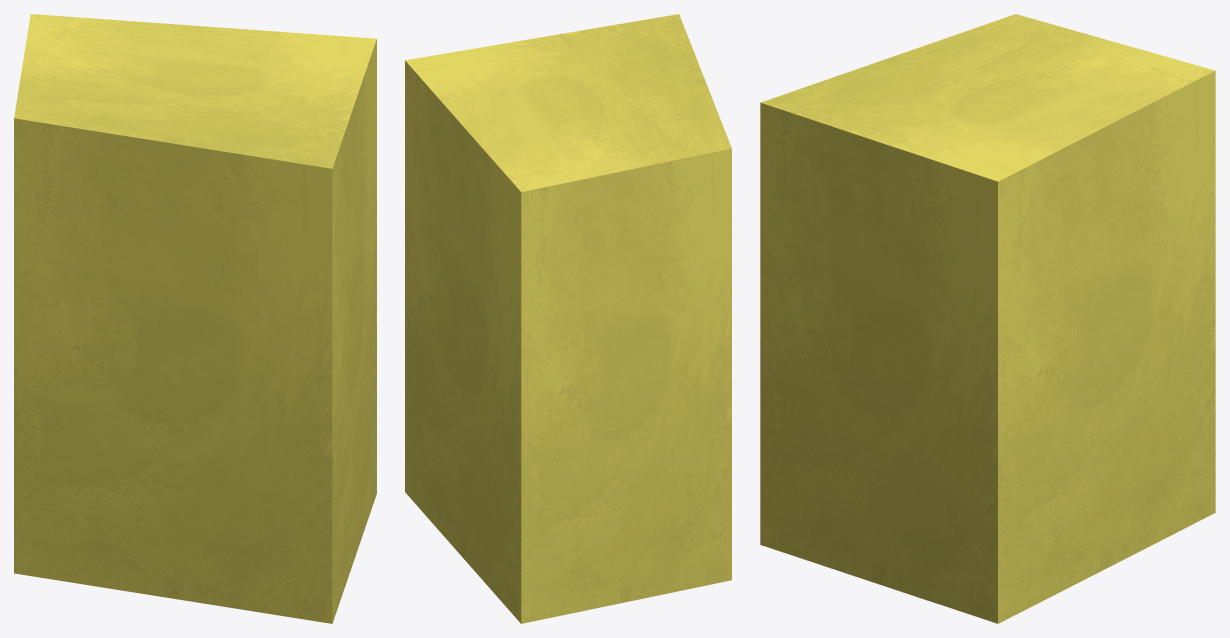
The model's file is jaune4.FBX.
3 renders of one model, left to right at view 1: azimuth 30°, elevation 25°; view 2: azimuth 150°, elevation 25°; view 3: azimuth 270°, elevation 25°, orthographic. The views are drawn at different scales.
Parts seen in each view (by area): view 1: Ligne032; view 2: Ligne032; view 3: Ligne032.
Boxes of the visible parts, box(x1,y1,x2,y2) form: Ligne032: box(14, 14, 376, 623); Ligne032: box(405, 14, 731, 623); Ligne032: box(760, 14, 1215, 623).
Size of the model in its own units: 4.96 by 6.09 by 5.68.
Materials: 1 (1 with a texture image).
